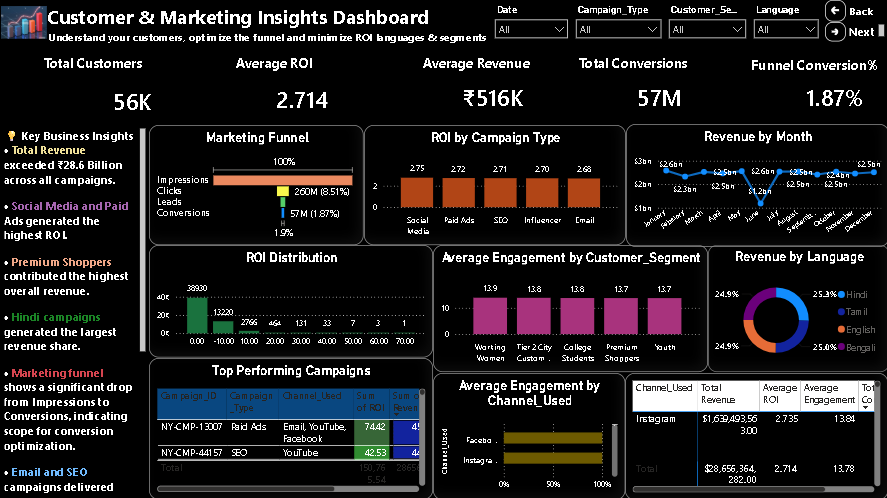

Layout of this report page (visuals, bound fields, positions):
{"tool":"powerbi","page":{"name":"Customer & Marketing Insights","canvas":[1280,720],"ordinal":2},"visuals":[{"type":"textbox","box":[1.4,67.7,265,112.3],"z":0},{"type":"textbox","box":[0,0,1278.7,76.3],"z":1000},{"type":"textbox","box":[266.4,67.7,257.8,112.3],"z":2000},{"type":"textbox","box":[522.7,67.7,270.7,112.3],"z":3000},{"type":"textbox","box":[1031,70.6,249.1,109.4],"z":4000},{"type":"textbox","box":[793.4,67.7,237.6,110.9],"z":5000},{"type":"slicer","fields":{"Values":["marketing_campaign_cleaned.Date"]},"box":[702.5,0,125.3,76.3],"z":6000},{"type":"slicer","fields":{"Values":["marketing_campaign_cleaned.Customer_Segment"]},"box":[953.3,0,130.8,75],"z":7000},{"type":"slicer","fields":{"Values":["marketing_campaign_cleaned.Campaign_Type"]},"box":[819.4,0,142.6,74.9],"z":8000},{"type":"actionButton","box":[1188.3,31.7,30,28.3],"z":9000},{"type":"textbox","box":[1218.3,30.8,60,29.2],"z":10000},{"type":"image","box":[1.4,5.8,66.2,53.3],"z":11000},{"type":"actionButton","box":[1188.3,0,30,30.8],"z":12000},{"type":"textbox","box":[1218.3,0,60,32.5],"z":13000},{"type":"slicer","fields":{"Values":["marketing_campaign_cleaned.Language"]},"box":[1075,0,113.3,75],"z":14000},{"type":"cardVisual","fields":{"Data":["marketing_campaign_cleaned.Total Customers"]},"box":[133.9,108,118.1,70.6],"z":20000},{"type":"cardVisual","fields":{"Data":["marketing_campaign_cleaned.Average ROI"]},"box":[368.6,106.6,139.7,69.1],"z":21000},{"type":"cardVisual","fields":{"Data":["marketing_campaign_cleaned.Average Revenue"]},"box":[637.9,102.2,149.8,70.6],"z":22000},{"type":"cardVisual","fields":{"Data":["marketing_campaign_cleaned.Total Conversions"]},"box":[888.5,102.2,128.2,73.4],"z":23000},{"type":"cardVisual","fields":{"Data":["marketing_campaign_cleaned.Funnel Conversion %"]},"box":[1131.8,102.2,141.1,73.4],"z":24000},{"type":"donutChart","title":"Revenue by Language","fields":{"Category":["marketing_campaign_cleaned.Language"],"Y":["marketing_campaign_cleaned.Total Revenue"]},"box":[1018.9,353.3,261.1,183.3],"z":25000},{"type":"clusteredColumnChart","title":"ROI by Campaign Type","fields":{"Category":["marketing_campaign_cleaned.Campaign_Type"],"Y":["marketing_campaign_cleaned.Average ROI"]},"box":[524.2,180,376.7,173.3],"z":26000},{"type":"funnel","title":"Marketing Funnel","fields":{"Category":["Marketing Funnel.Stage"],"Y":["Marketing Funnel.Funnel Value"]},"box":[214.6,180,308.9,173.3],"z":27000},{"type":"clusteredColumnChart","fields":{"Category":["marketing_campaign_cleaned.Customer_Segment"],"Y":["marketing_campaign_cleaned.Average Engagement"]},"box":[623.3,353.3,395.6,183.3],"z":28000},{"type":"pivotTable","fields":{"Values":["marketing_campaign_cleaned.Total Revenue","marketing_campaign_cleaned.Average ROI","marketing_campaign_cleaned.Average Engagement","marketing_campaign_cleaned.Total Conversions"],"Rows":["marketing_campaign_cleaned.Channel_Used"]},"box":[900,537.1,378.7,182.9],"z":29000},{"type":"lineChart","title":"Revenue by Month","fields":{"Category":["marketing_campaign_cleaned.Date.Variation.Date Hierarchy.Month"],"Y":["marketing_campaign_cleaned.Total Revenue"]},"box":[901.4,178.6,378.9,176.7],"z":30000},{"type":"tableEx","title":"Top Performing Campaigns","fields":{"Values":["marketing_campaign_cleaned.Campaign_ID","marketing_campaign_cleaned.Campaign_Type","marketing_campaign_cleaned.Channel_Used","Sum(marketing_campaign_cleaned.ROI)","Sum(marketing_campaign_cleaned.Revenue)","Sum(marketing_campaign_cleaned.Conversions)"]},"box":[214.4,515.6,408.9,204.4],"z":31000},{"type":"hundredPercentStackedBarChart","fields":{"Category":["marketing_campaign_cleaned.Channel_Used"],"Y":["marketing_campaign_cleaned.Average Engagement"]},"box":[623.3,536.7,276.7,183.3],"z":32000},{"type":"clusteredColumnChart","title":"ROI Distribution","fields":{"Category":["marketing_campaign_cleaned.ROI (bins)"],"Y":["CountNonNull(marketing_campaign_cleaned.Campaign_ID)"]},"box":[214.4,353.3,408.9,162.2],"z":33000},{"type":"textbox","box":[1.4,180,212.9,540],"z":34000}]}

Visuals, with their boxes in screenshot pixels (x1, y1, x2, y2), scaled from the page's 1280x720 canvas onto the 887x498 screenshot:
textbox: (1,47,185,124)
textbox: (0,0,886,53)
textbox: (185,47,363,124)
textbox: (362,47,550,124)
textbox: (714,49,886,124)
textbox: (550,47,714,124)
slicer - marketing_campaign_cleaned.Date: (487,0,574,53)
slicer - marketing_campaign_cleaned.Customer_Segment: (661,0,751,52)
slicer - marketing_campaign_cleaned.Campaign_Type: (568,0,667,52)
actionButton: (823,22,844,42)
textbox: (844,21,886,42)
image: (1,4,47,41)
actionButton: (823,0,844,21)
textbox: (844,0,886,22)
slicer - marketing_campaign_cleaned.Language: (745,0,823,52)
cardVisual - marketing_campaign_cleaned.Total Customers: (93,75,175,124)
cardVisual - marketing_campaign_cleaned.Average ROI: (255,74,352,122)
cardVisual - marketing_campaign_cleaned.Average Revenue: (442,71,546,120)
cardVisual - marketing_campaign_cleaned.Total Conversions: (616,71,705,121)
cardVisual - marketing_campaign_cleaned.Funnel Conversion %: (784,71,882,121)
"Revenue by Language" donutChart: (706,244,886,371)
"ROI by Campaign Type" clusteredColumnChart: (363,124,624,244)
"Marketing Funnel" funnel: (149,124,363,244)
clusteredColumnChart - marketing_campaign_cleaned.Customer_Segment x marketing_campaign_cleaned.Average Engagement: (432,244,706,371)
pivotTable - marketing_campaign_cleaned.Total Revenue x marketing_campaign_cleaned.Average ROI: (624,371,886,497)
"Revenue by Month" lineChart: (625,124,886,246)
"Top Performing Campaigns" tableEx: (149,357,432,497)
hundredPercentStackedBarChart - marketing_campaign_cleaned.Channel_Used x marketing_campaign_cleaned.Average Engagement: (432,371,624,497)
"ROI Distribution" clusteredColumnChart: (149,244,432,357)
textbox: (1,124,149,497)
